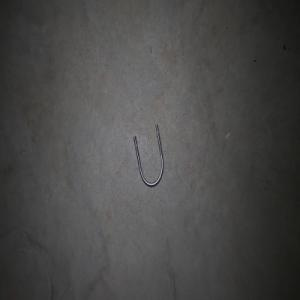ClampPart: (132, 122, 164, 189)
